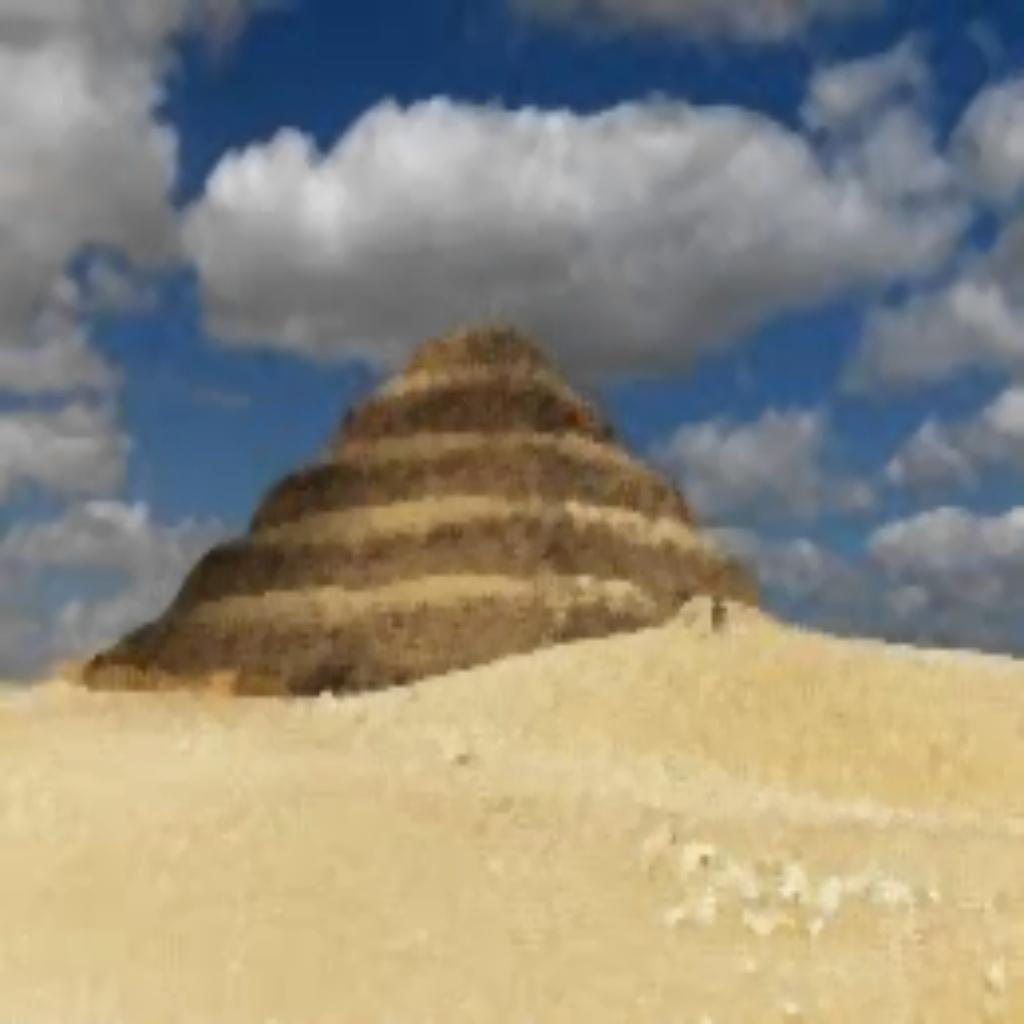Pyramid of Djoser: (71, 306, 763, 697)
